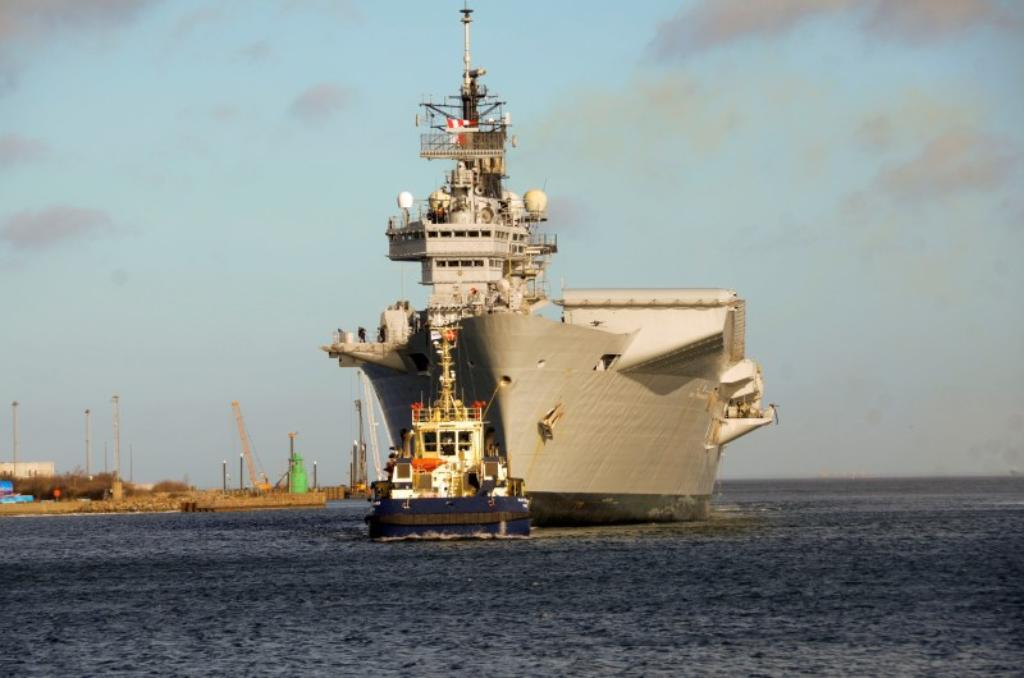Warship: (321, 2, 793, 532)
